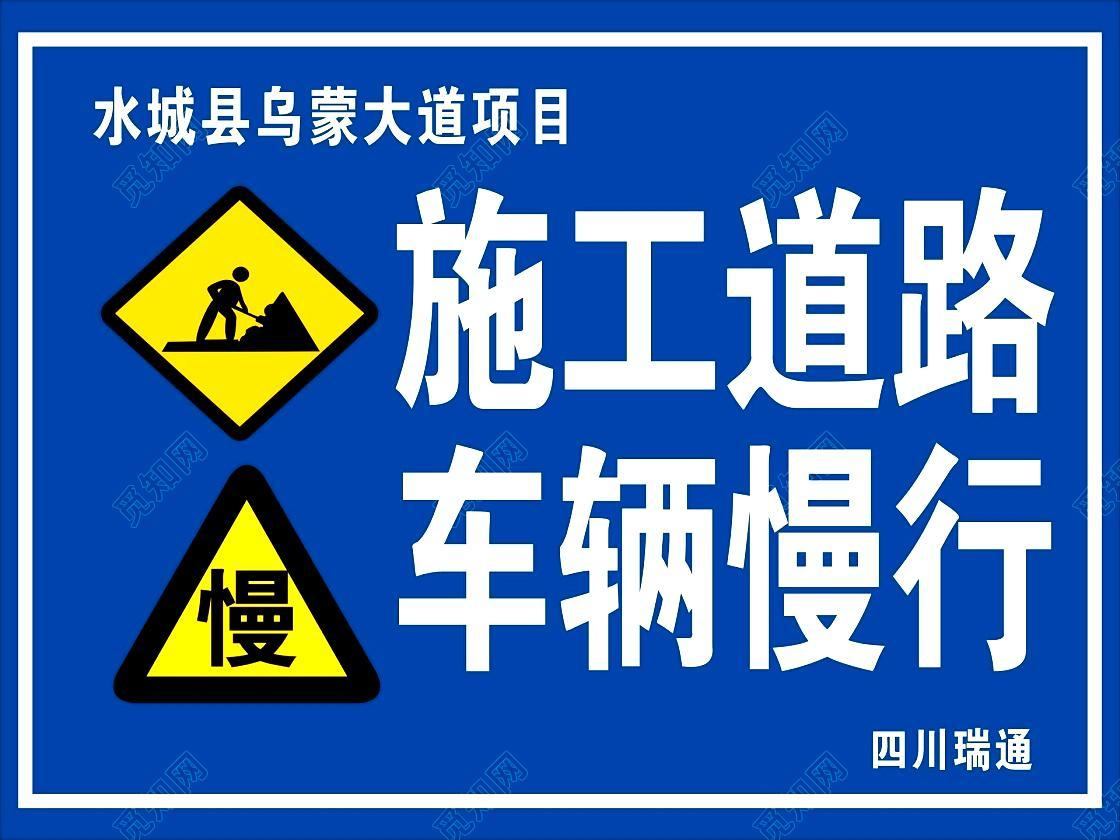sign: (11, 20, 1106, 818)
